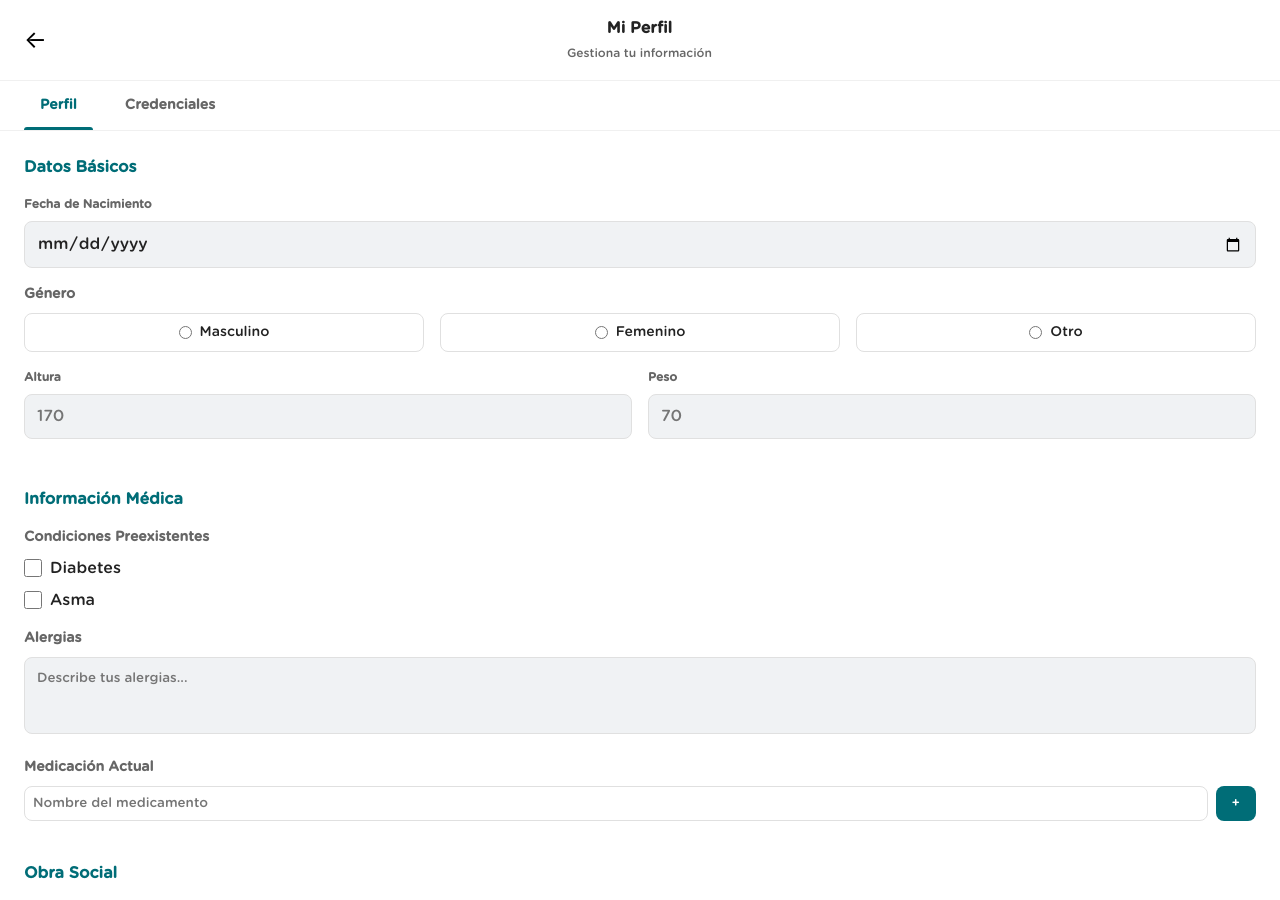
Scenario: HealthProfile Component › adds and removes medications in profile tab
Type "Aspirina" into the field with placeholder "Nombre del medicamento".
click(616, 804); type("Aspirina")  # box [24,786,1208,821]
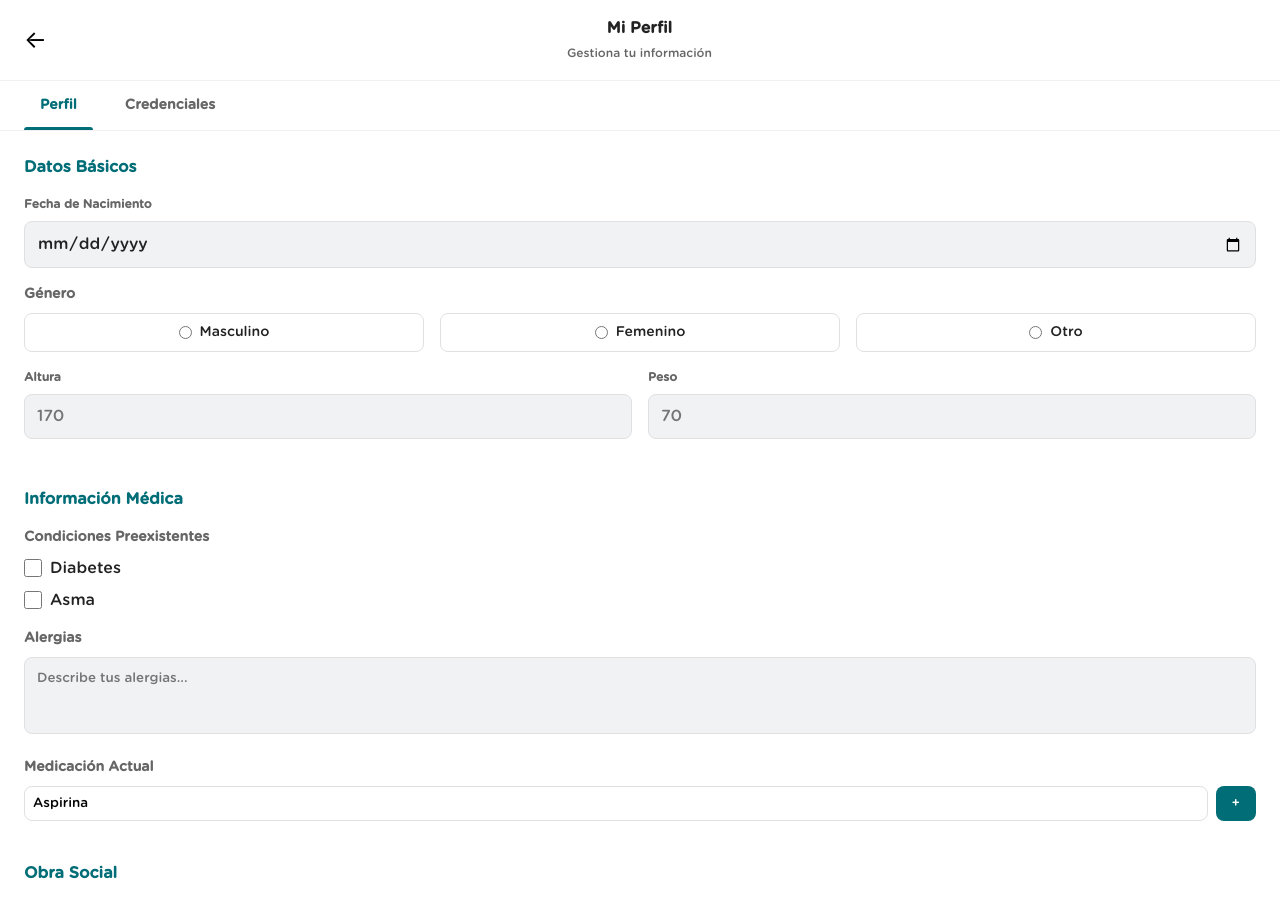
Click the button "+".
click(1236, 804)  # box [1216,786,1256,821]
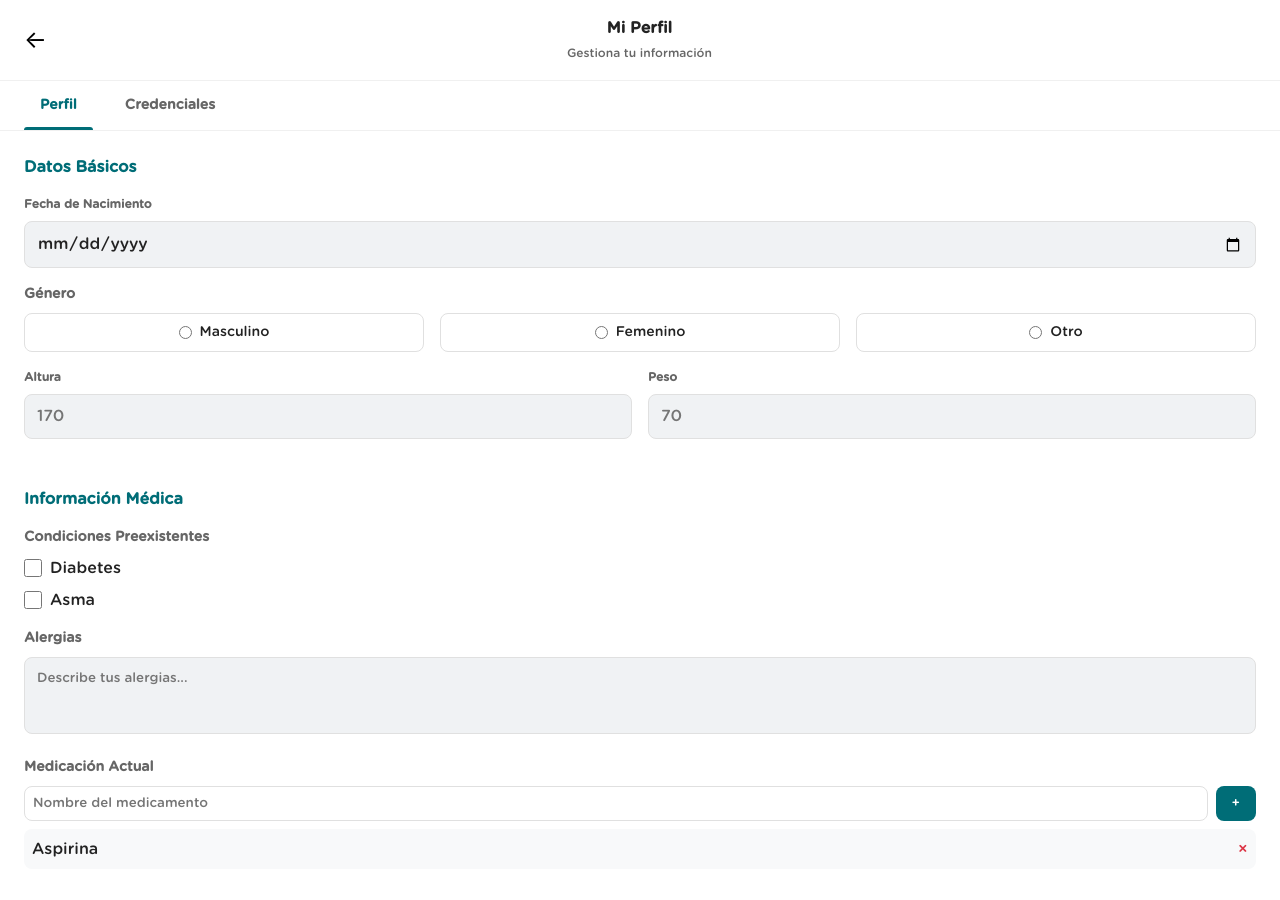
Expected: the text "Aspirina" is shown, [32,837,98,861]
Click the button "×".
click(1243, 849)  # box [1238,837,1248,861]
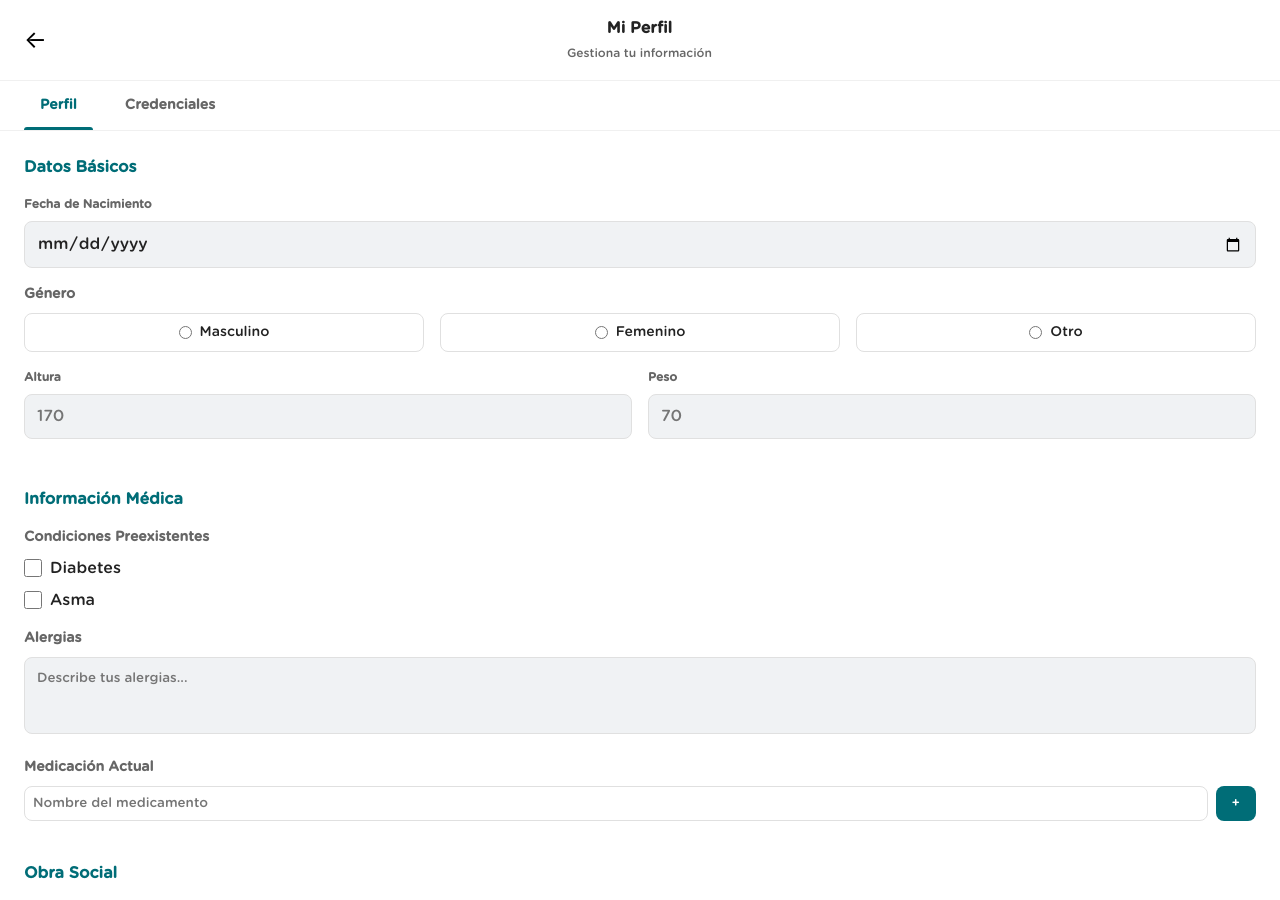
Expected: the text "Aspirina" is gone
